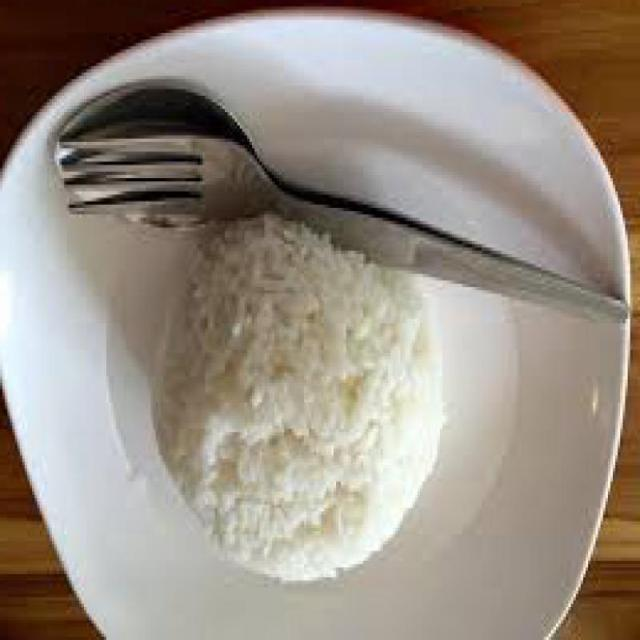nasi_putih: (153, 209, 444, 584)
